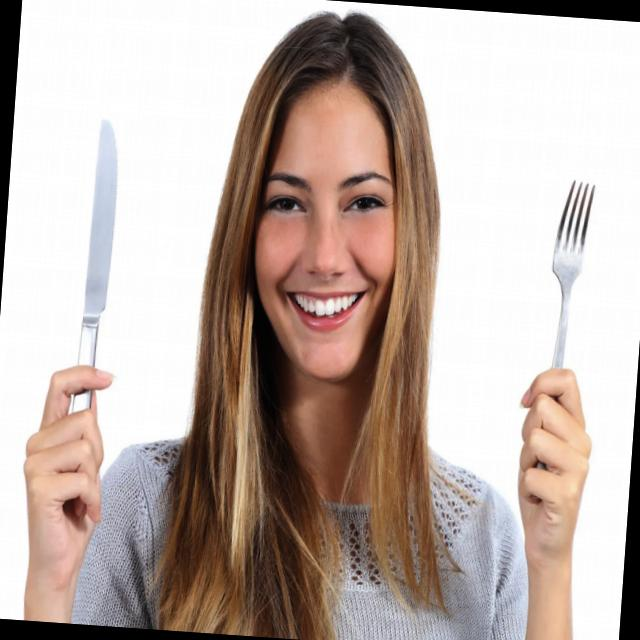fork: (533, 178, 597, 506)
